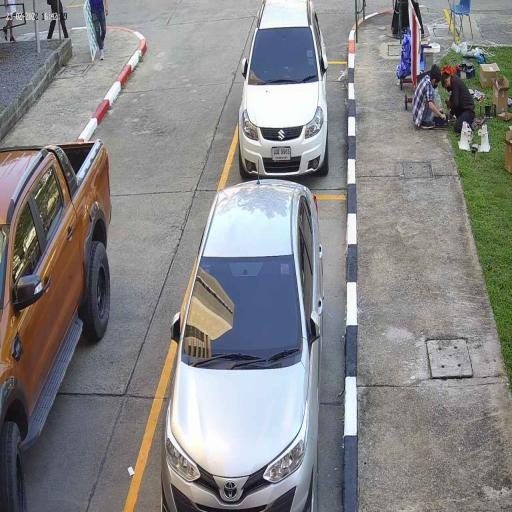car: (161, 178, 325, 512), (0, 136, 114, 512), (237, 0, 331, 182)
